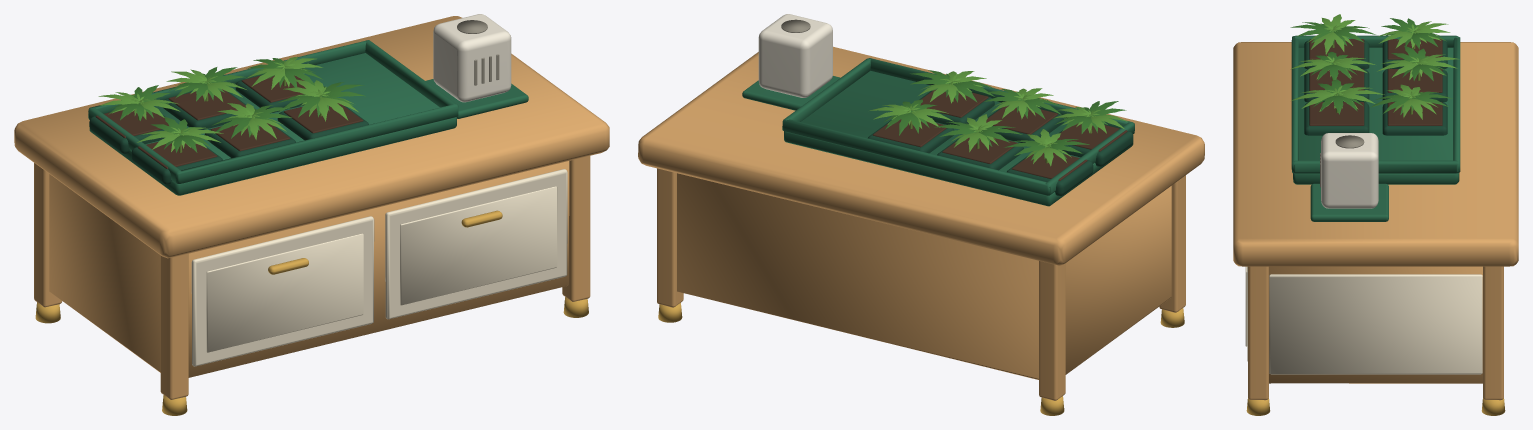
Rendered from seeds_bench_tier2.glb.
3 views of the same model, side by side, from view 1: azimuth 30°, elevation 25°; view 2: azimuth 150°, elevation 25°; view 3: azimuth 270°, elevation 25° (orthographic). The views are drawn at different scales.
Parts seen in each view (by area): view 1: Top, Carcass, DrawerInset1, DrawerInset0, Tray, Drawer0, Drawer1, Humidifier, Leg-1-1, TrayRim1, Leg1-1, Leg-11 (+16 smaller); view 2: Carcass, Top, Tray, Humidifier, TrayRim0, Leg-11, Leg11, Leg-1-1, TrayRim1, TrayRim2, HumidPad, Soil01 (+12 smaller); view 3: Top, EndPanel, Tray, Carcass, Humidifier, Leg1-1, Leg11, HumidPad, TrayRim2, Soil02, TrayRim0, TrayRim1 (+35 smaller).
Boxes of the visible parts, bbox=[...] form: Top: bbox=[14, 16, 609, 258]; Carcass: bbox=[49, 161, 569, 377]; DrawerInset1: bbox=[400, 186, 557, 305]; DrawerInset0: bbox=[206, 233, 363, 352]; Tray: bbox=[89, 53, 456, 195]; Drawer0: bbox=[191, 216, 374, 366]; Drawer1: bbox=[385, 169, 567, 319]; Humidifier: bbox=[433, 14, 511, 102]; Leg-1-1: bbox=[160, 254, 188, 399]; TrayRim1: bbox=[176, 104, 458, 183]; Leg1-1: bbox=[562, 156, 590, 301]; Leg-11: bbox=[34, 163, 62, 307]; Carcass: bbox=[677, 173, 1171, 379]; Top: bbox=[638, 46, 1204, 265]; Tray: bbox=[784, 70, 1133, 206]; Humidifier: bbox=[758, 14, 832, 97]; TrayRim0: bbox=[782, 119, 1050, 195]; Leg-11: bbox=[1039, 261, 1065, 400]; Leg11: bbox=[657, 168, 683, 307]; Leg-1-1: bbox=[1159, 175, 1185, 312]; TrayRim1: bbox=[868, 58, 1134, 133]; TrayRim2: bbox=[784, 58, 870, 121]; HumidPad: bbox=[742, 76, 840, 110]; Soil01: bbox=[986, 105, 1057, 134]; Top: bbox=[1233, 42, 1518, 266]; EndPanel: bbox=[1269, 274, 1482, 374]; Tray: bbox=[1293, 47, 1459, 184]; Carcass: bbox=[1269, 266, 1482, 383]; Humidifier: bbox=[1321, 133, 1378, 208]; Leg1-1: bbox=[1248, 266, 1268, 400]; Leg11: bbox=[1483, 266, 1503, 400]; HumidPad: bbox=[1310, 183, 1388, 221]; TrayRim2: bbox=[1293, 160, 1458, 173]; Soil02: bbox=[1309, 102, 1364, 125]; TrayRim0: bbox=[1453, 37, 1460, 172]; TrayRim1: bbox=[1291, 36, 1298, 173].
Bounding box in the file's own units: 1.84 × 1.03 × 1.09.
